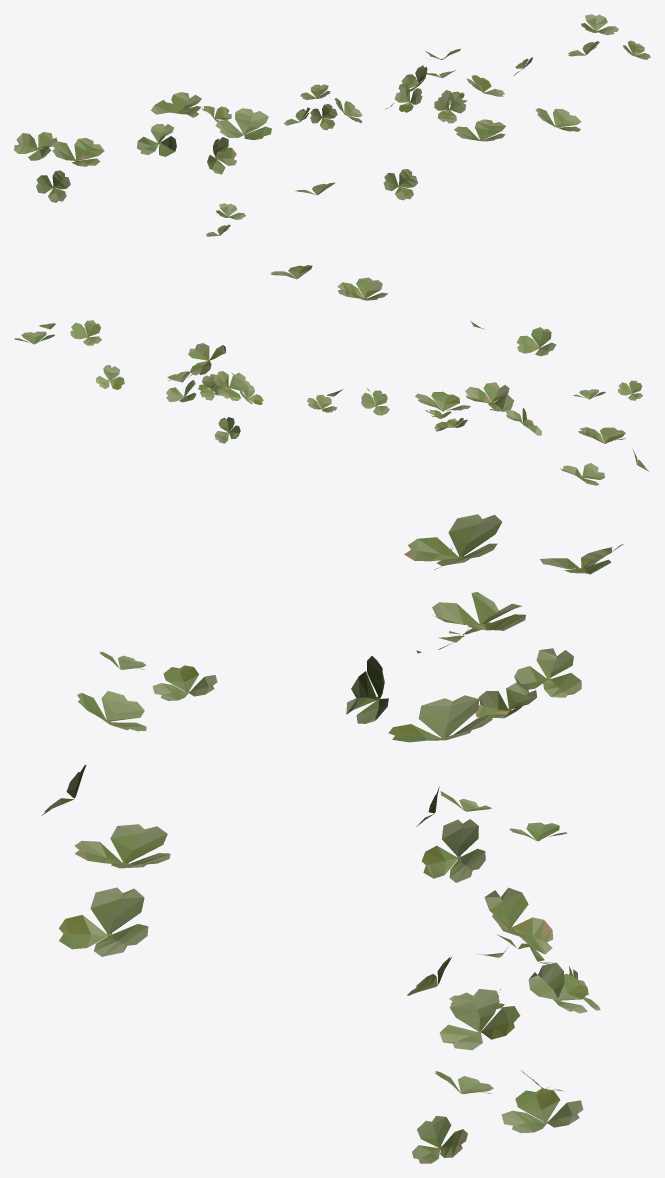
The model's file is arbusto_sorrel.glb.
3 renders of one model, top to bottom at view 1: azimuth 30°, elevation 25°; view 2: azimuth 150°, elevation 25°; view 3: azimuth 270°, elevation 25°, orthographic. The views are drawn at different scales.
Parts seen in each view (by area): view 1: mapa.vegetacion.arbusto_sorrel; view 2: mapa.vegetacion.arbusto_sorrel; view 3: mapa.vegetacion.arbusto_sorrel.
Part boxes in pixels (left/top/right/bottom): mapa.vegetacion.arbusto_sorrel: left=14, top=14, right=650, bottom=236; mapa.vegetacion.arbusto_sorrel: left=14, top=265, right=648, bottom=485; mapa.vegetacion.arbusto_sorrel: left=41, top=514, right=623, bottom=1163.
Size of the model in its own units: 0.5 by 0.0678 by 0.2079.
